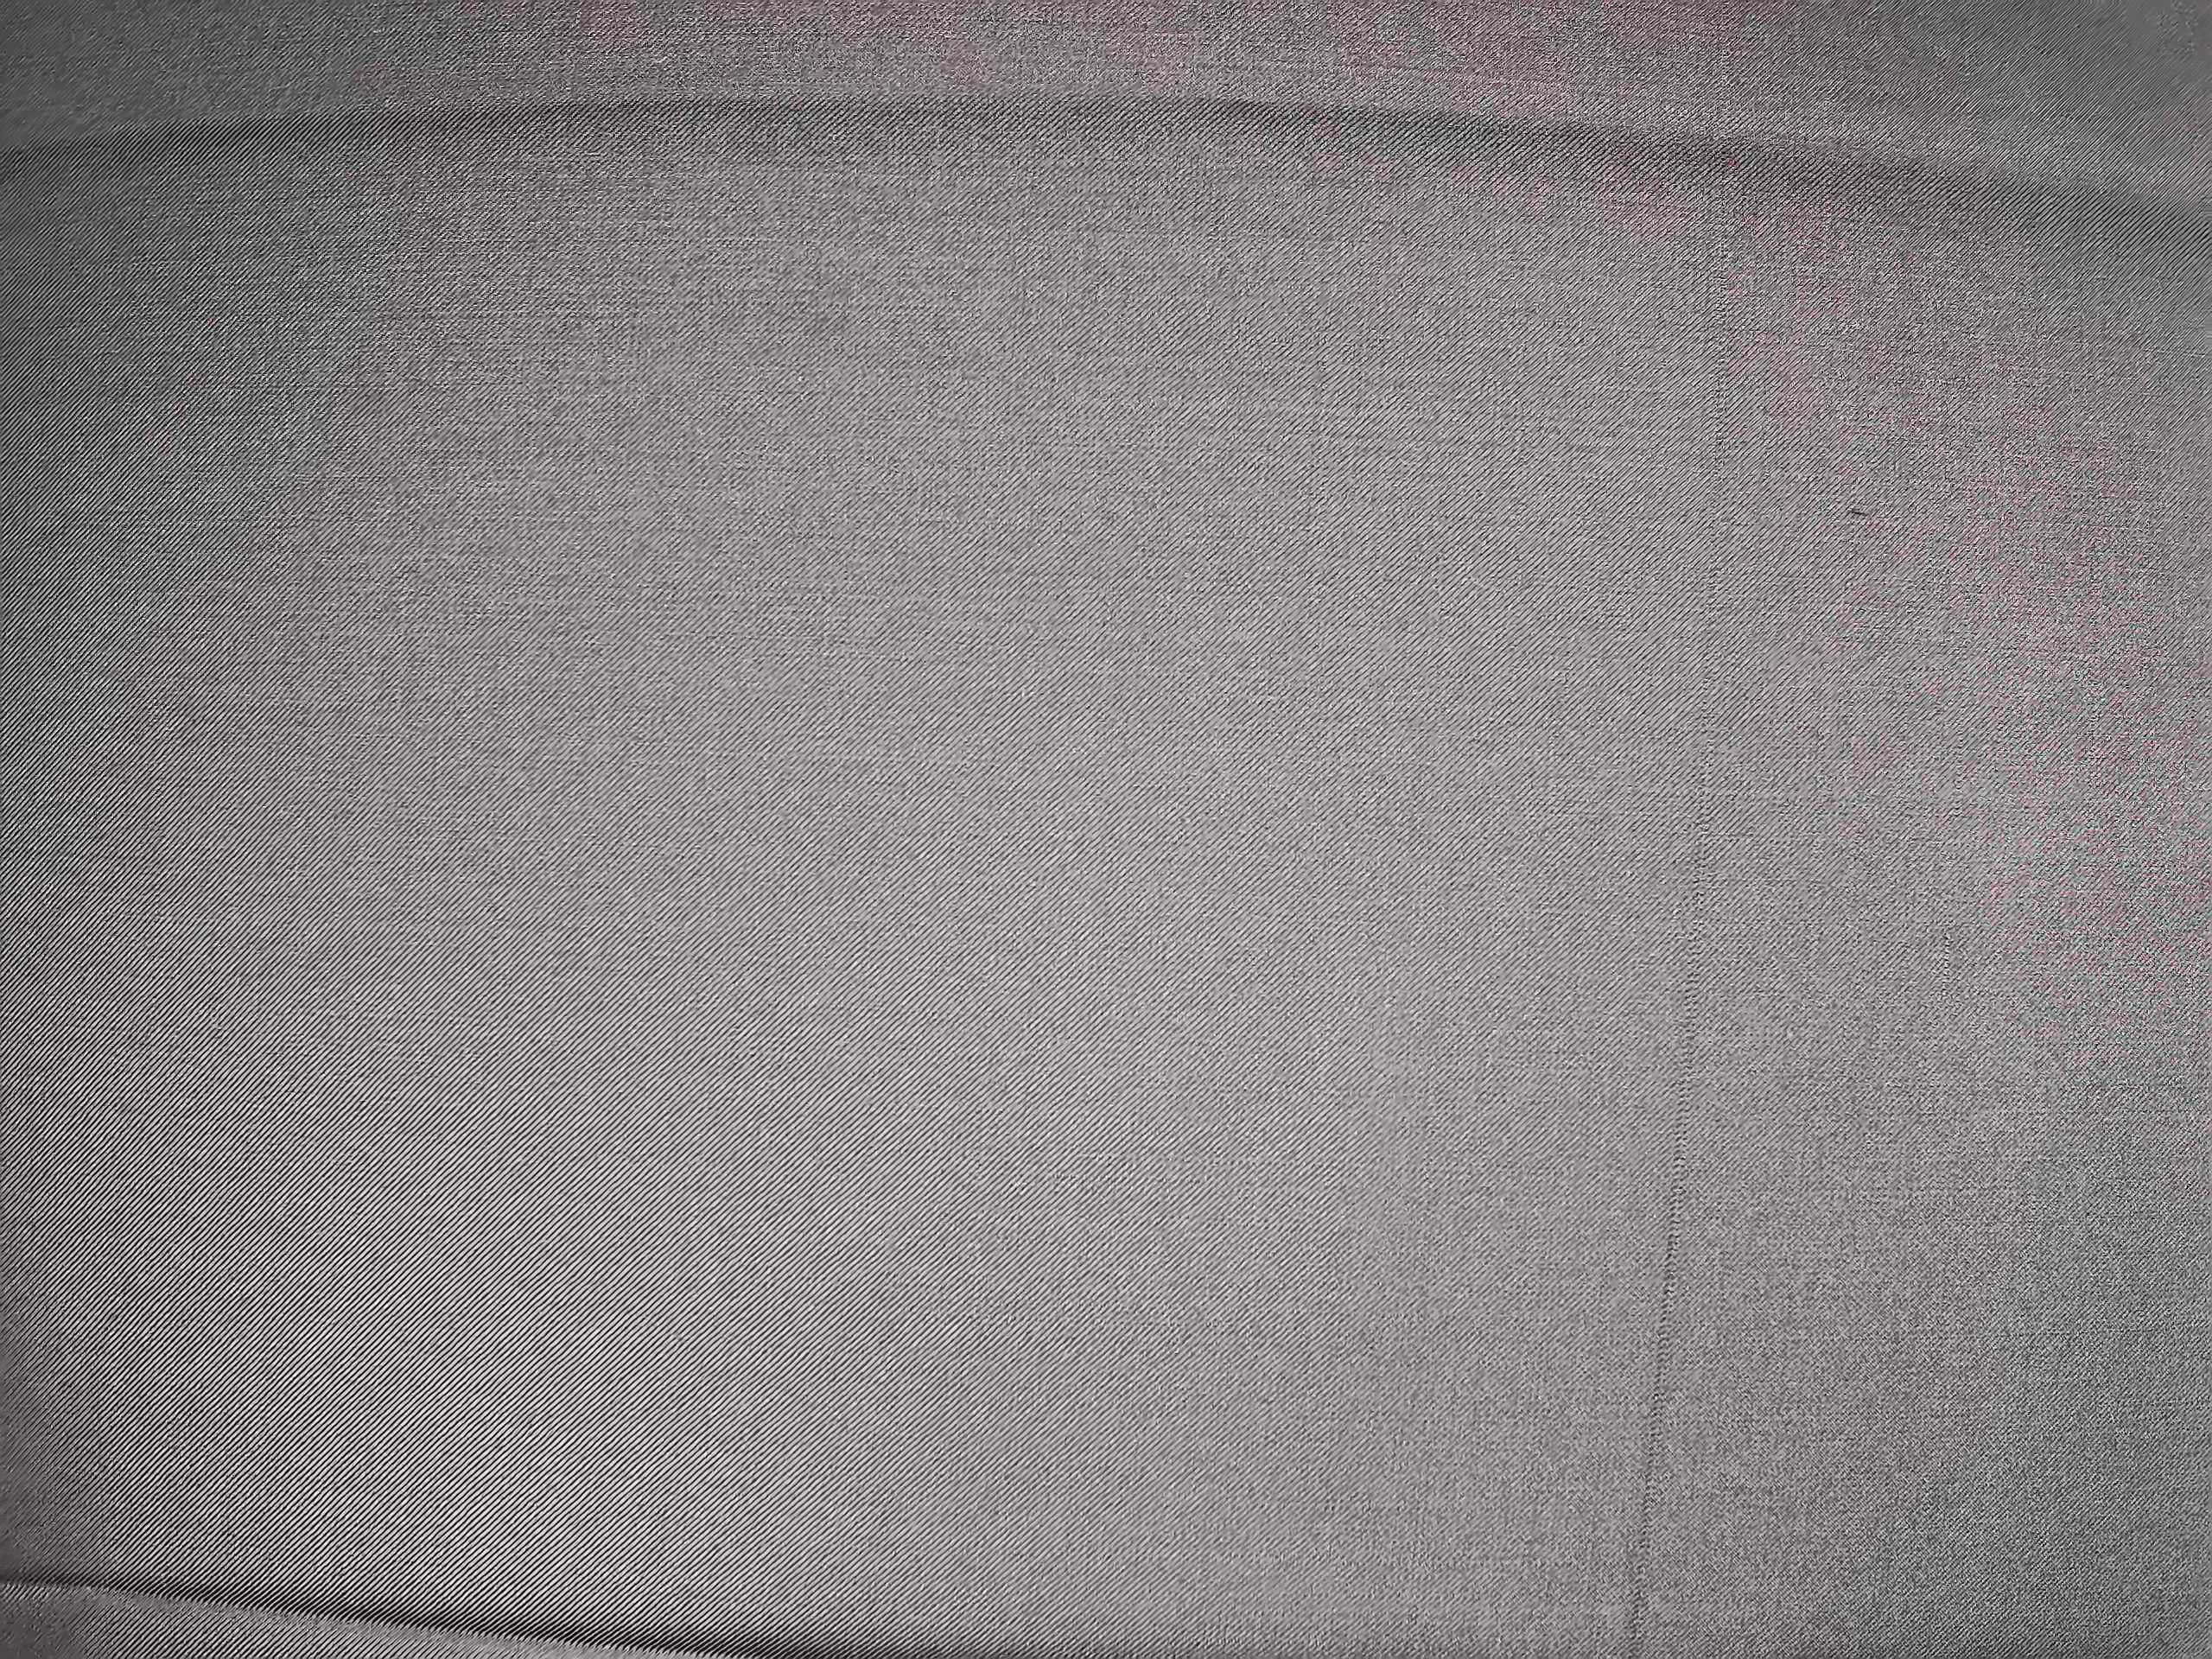hanging-warp: (1601, 12, 1756, 1642)
